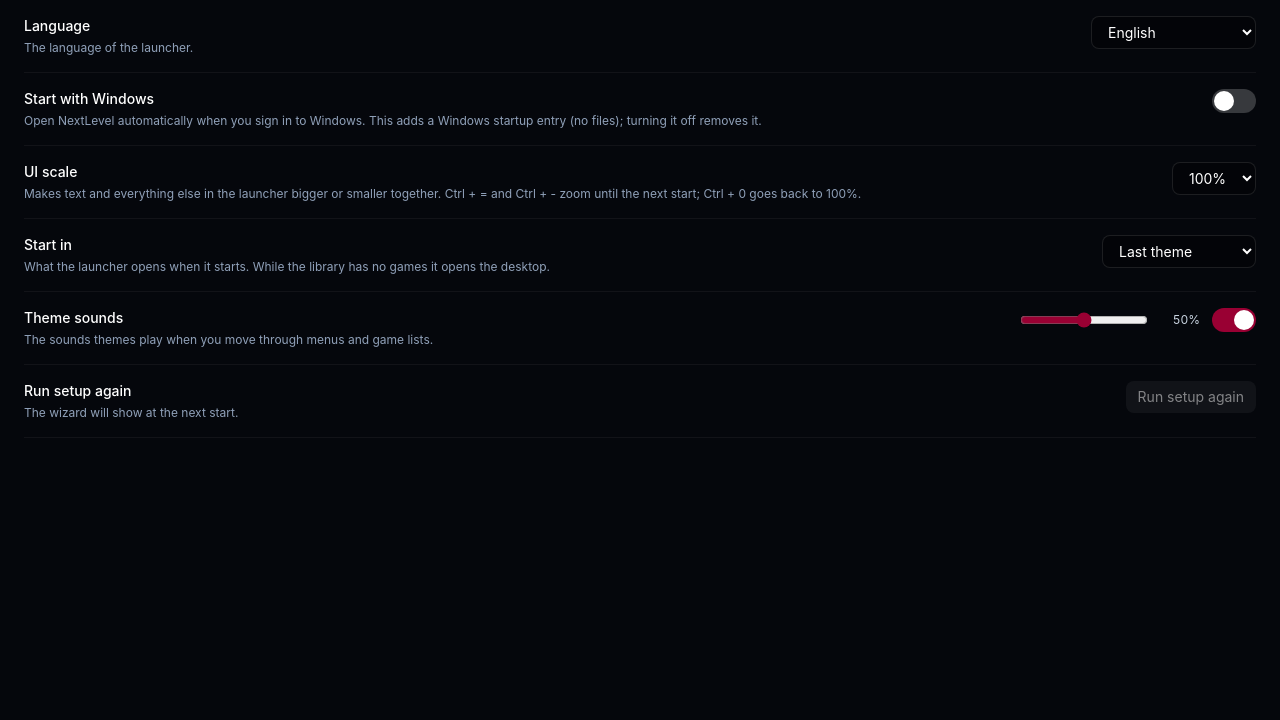
Test: GeneralSection › FR-SET-1: toggling Start with Windows shows the save bar; Save sends settings.save
Expected: the button "Save" is not shown
What coordinates should you click on to do the following:
click the switch named "Start with Windows" in the row of "Start with Windows"
I would click on:
 (1234, 101)
Its box is [1212,89,1256,113].
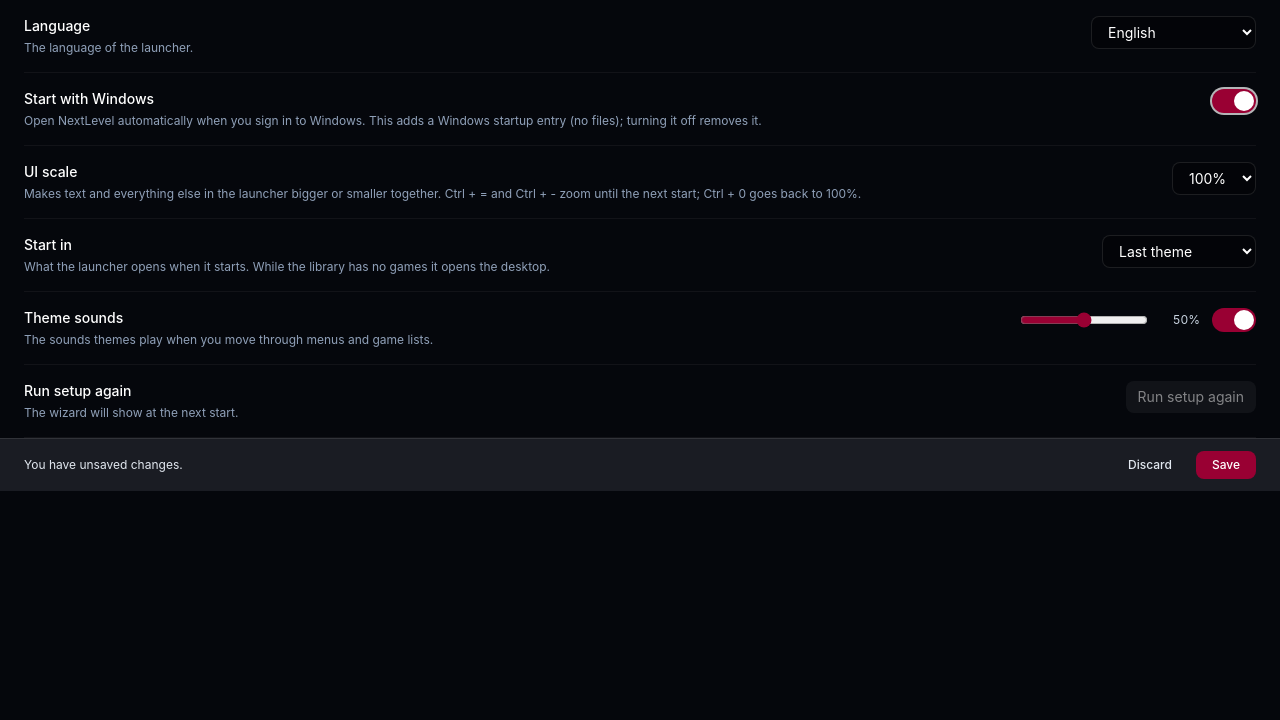
Now the switch named "Start with Windows" in the row of "Start with Windows" is checked, box [1212,89,1256,113]
What coordinates should you click on to do the following:
click the button "Save"
I would click on:
 (1226, 465)
Its box is [1196,451,1256,479].
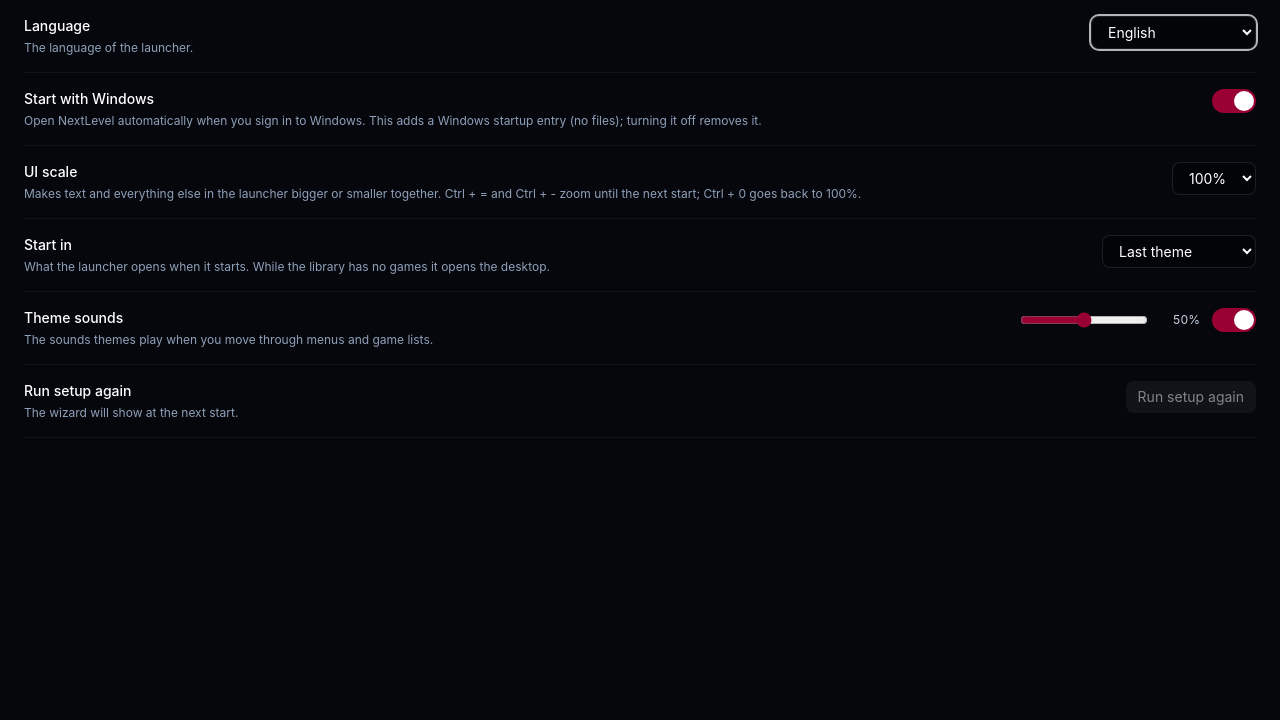
Now the switch named "Start with Windows" in the row of "Start with Windows" is checked, box [1212,89,1256,113]
Now the text "save" is gone
